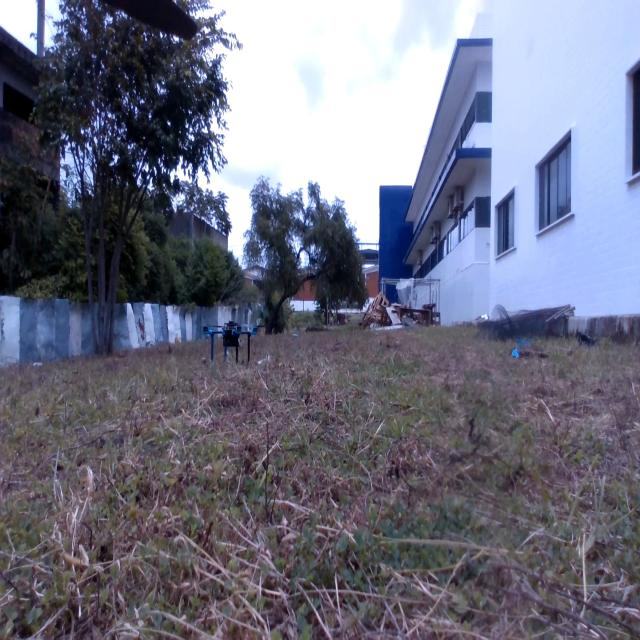-uav-: (198, 309, 259, 372)
